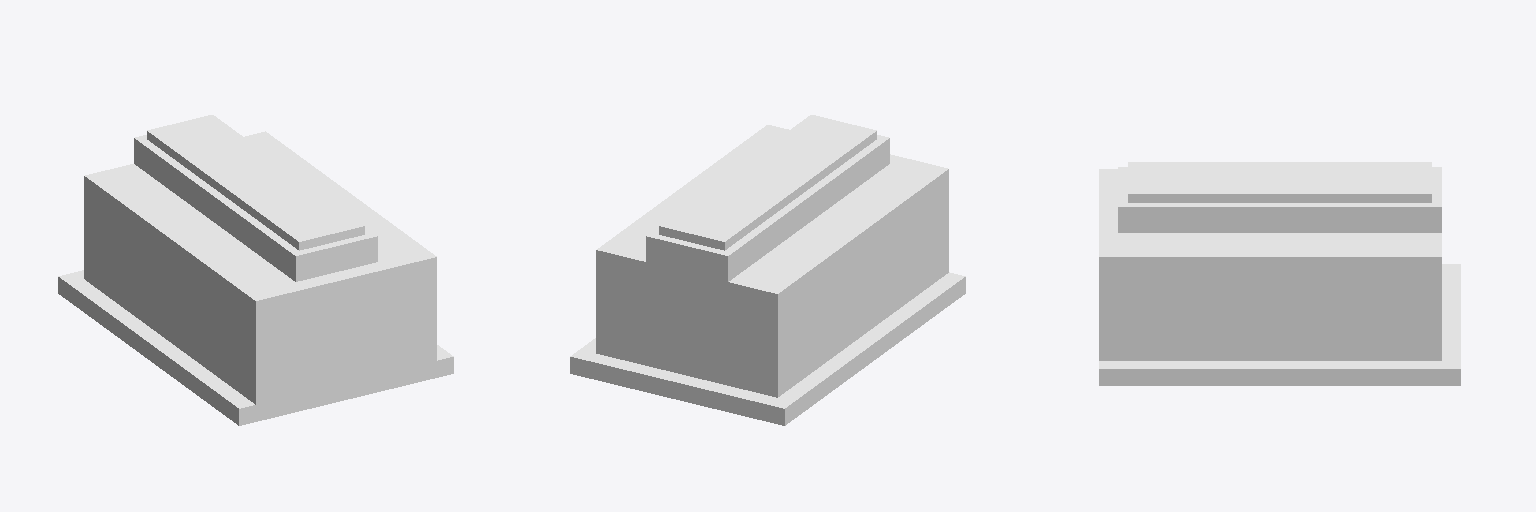
The model's file is Mineways2Skfb.obj.
3 renders of one model, left to right at view 1: azimuth 30°, elevation 25°; view 2: azimuth 150°, elevation 25°; view 3: azimuth 270°, elevation 25°, orthographic.
Visible parts, largest first — view 1: Crations_de_btiments__1078_3_1213_to_1090_255_1231; view 2: Crations_de_btiments__1078_3_1213_to_1090_255_1231; view 3: Crations_de_btiments__1078_3_1213_to_1090_255_1231.
Boxes of the visible parts, <box> form: Crations_de_btiments__1078_3_1213_to_1090_255_1231: <box>58,115,453,425</box>; Crations_de_btiments__1078_3_1213_to_1090_255_1231: <box>570,115,965,425</box>; Crations_de_btiments__1078_3_1213_to_1090_255_1231: <box>1099,162,1460,385</box>.
Size of the model in its own units: 1.3 by 0.9 by 1.9.